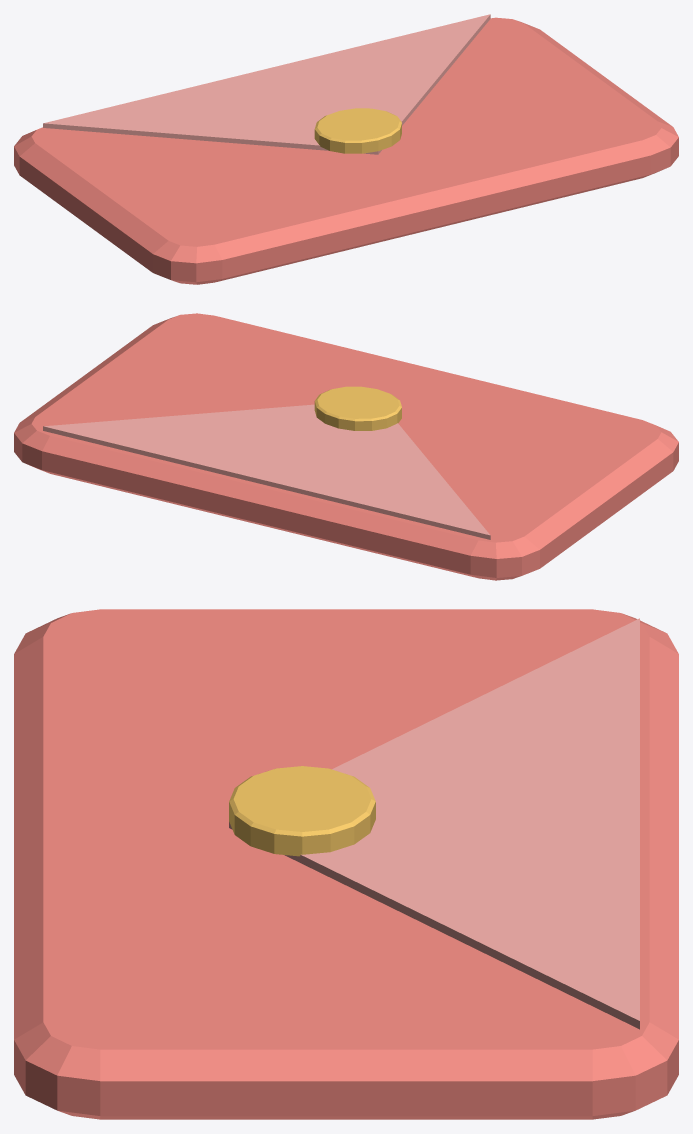
File: red_envelope.glb
The picture shows the model from 3 angles, top to bottom: view 1: azimuth 30°, elevation 25°; view 2: azimuth 150°, elevation 25°; view 3: azimuth 270°, elevation 25°; orthographic projection. The views are drawn at different scales.
Parts seen in each view (by area): view 1: model; view 2: model; view 3: model.
Part boxes in pixels (bbox=[...]): model: bbox=[14, 14, 678, 284]; model: bbox=[14, 313, 678, 580]; model: bbox=[14, 609, 678, 1119].
Bounding box in the file's own units: 0.3 × 0.03 × 0.18.
